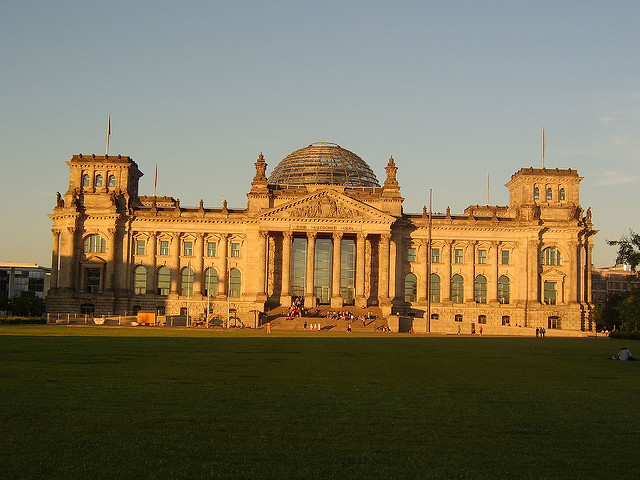other: (1, 261, 52, 319)
reichstag: (46, 154, 610, 338)
